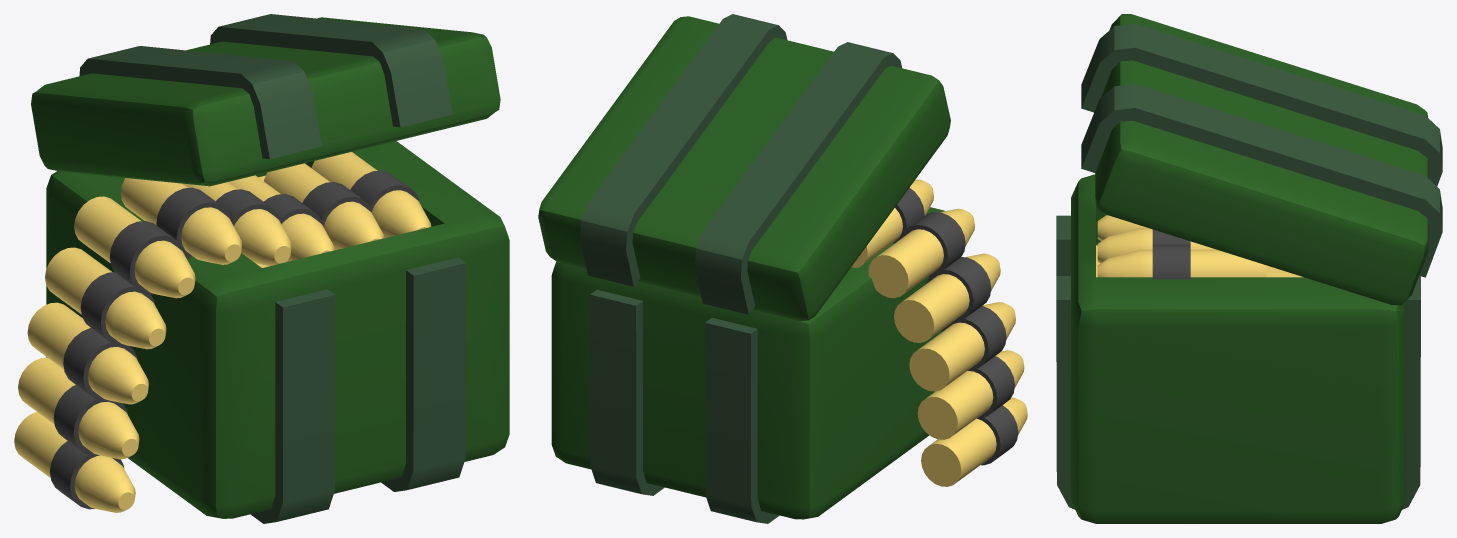
Rendered from pickupReload.fbx.
The picture shows the model from 3 angles, left to right: view 1: azimuth 30°, elevation 25°; view 2: azimuth 150°, elevation 25°; view 3: azimuth 270°, elevation 25°; orthographic projection. The views are drawn at different scales.
Parts seen in each view (by area): view 1: pCylinder41; view 2: pCylinder41; view 3: pCylinder41.
Part boxes in pixels (box(x1,y1,x2,y2)): pCylinder41: box(14, 14, 509, 523); pCylinder41: box(538, 14, 1027, 523); pCylinder41: box(1056, 14, 1442, 523).
Size of the model in its own units: 62.7 by 63.83 by 54.51.
